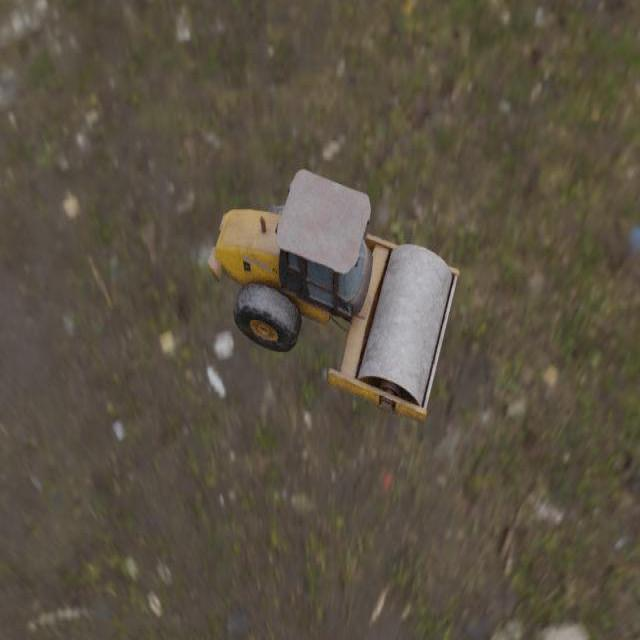Roller: (207, 168, 459, 423)
